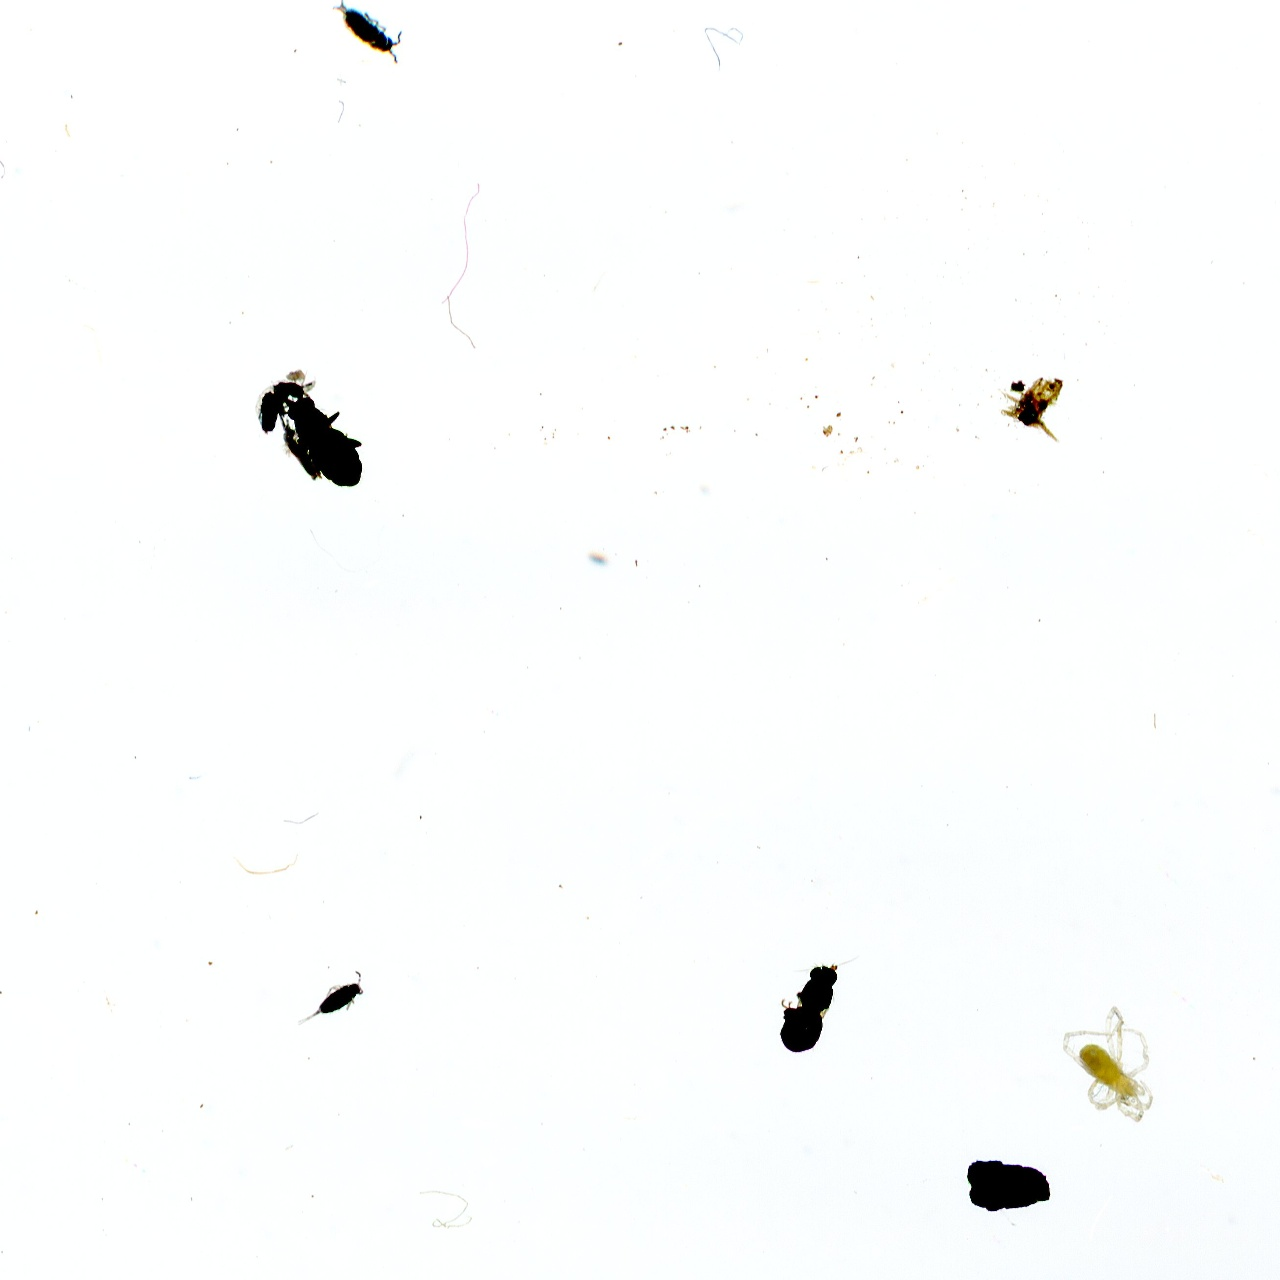arthropod: (761, 927, 870, 1069), (1058, 1004, 1159, 1125), (317, 0, 423, 82), (290, 966, 374, 1031)
